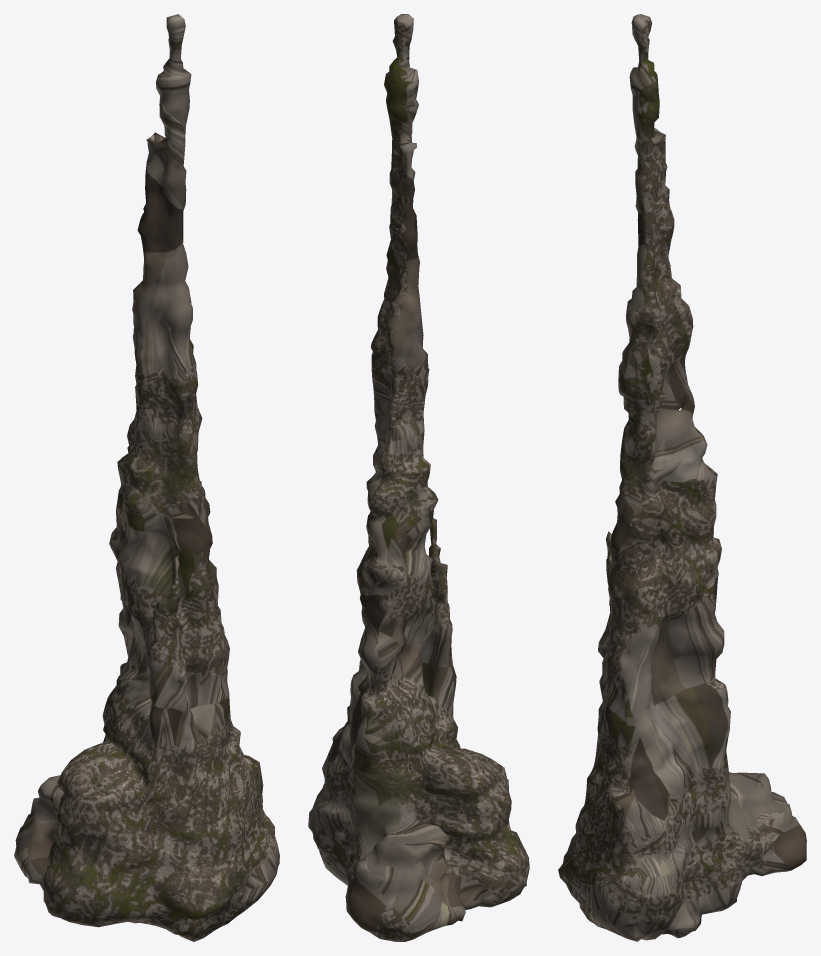
The model's file is SM_Stalacite_D.fbx.
3 renders of one model, left to right at view 1: azimuth 30°, elevation 25°; view 2: azimuth 150°, elevation 25°; view 3: azimuth 270°, elevation 25°, orthographic. The views are drawn at different scales.
Parts seen in each view (by area): view 1: SM_Stalacite_D_LOD0; view 2: SM_Stalacite_D_LOD0; view 3: SM_Stalacite_D_LOD0.
Part boxes in pixels (left/top/right/bottom): SM_Stalacite_D_LOD0: left=14, top=14, right=279, bottom=941; SM_Stalacite_D_LOD0: left=308, top=14, right=529, bottom=941; SM_Stalacite_D_LOD0: left=558, top=14, right=806, bottom=941.
Size of the model in its own units: 274 by 271 by 1099.
